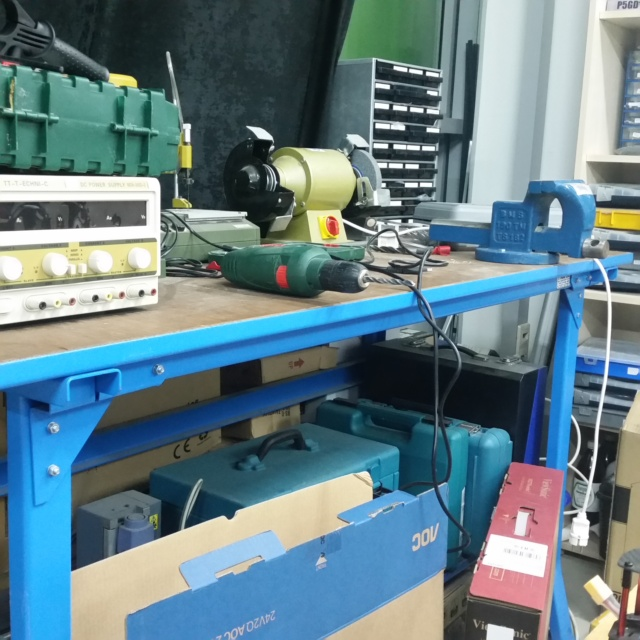drill: (199, 242, 421, 303)
